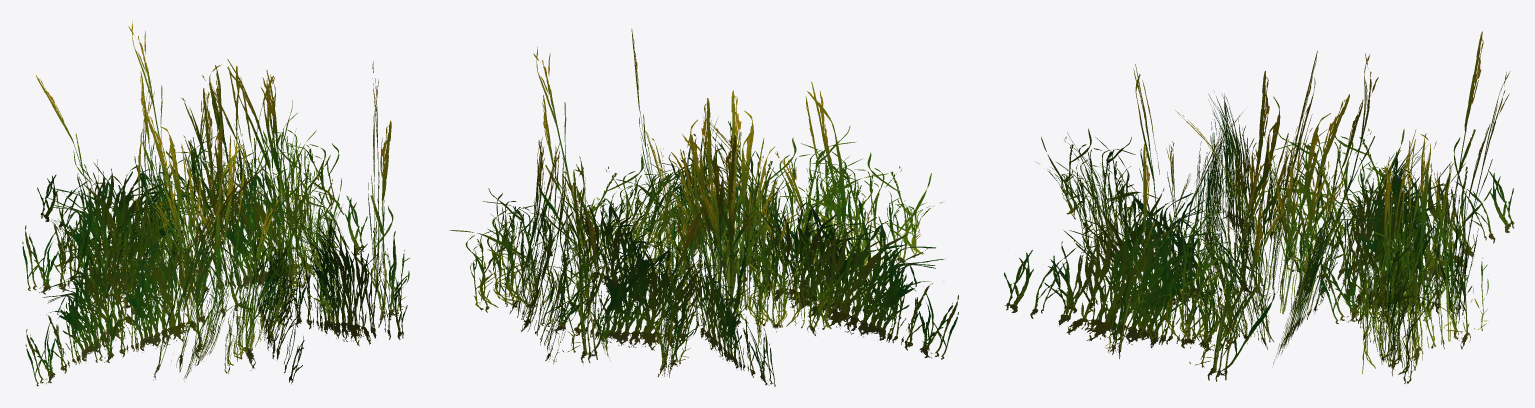
3 views of the same model, side by side, from view 1: azimuth 30°, elevation 25°; view 2: azimuth 150°, elevation 25°; view 3: azimuth 270°, elevation 25° (orthographic). The views are drawn at different scales.
Visible parts, largest first — view 1: SM_BM_WildGrass_01_LOD0; view 2: SM_BM_WildGrass_01_LOD0; view 3: SM_BM_WildGrass_01_LOD0.
Boxes of the visible parts, left/top/right/bottom form: SM_BM_WildGrass_01_LOD0: left=22, top=21, right=409, bottom=386; SM_BM_WildGrass_01_LOD0: left=449, top=29, right=958, bottom=386; SM_BM_WildGrass_01_LOD0: left=1004, top=31, right=1514, bottom=383.
Size of the model in its own units: 0.8532 by 0.4995 by 0.8259.
Materials: 1 (1 with a texture image).
